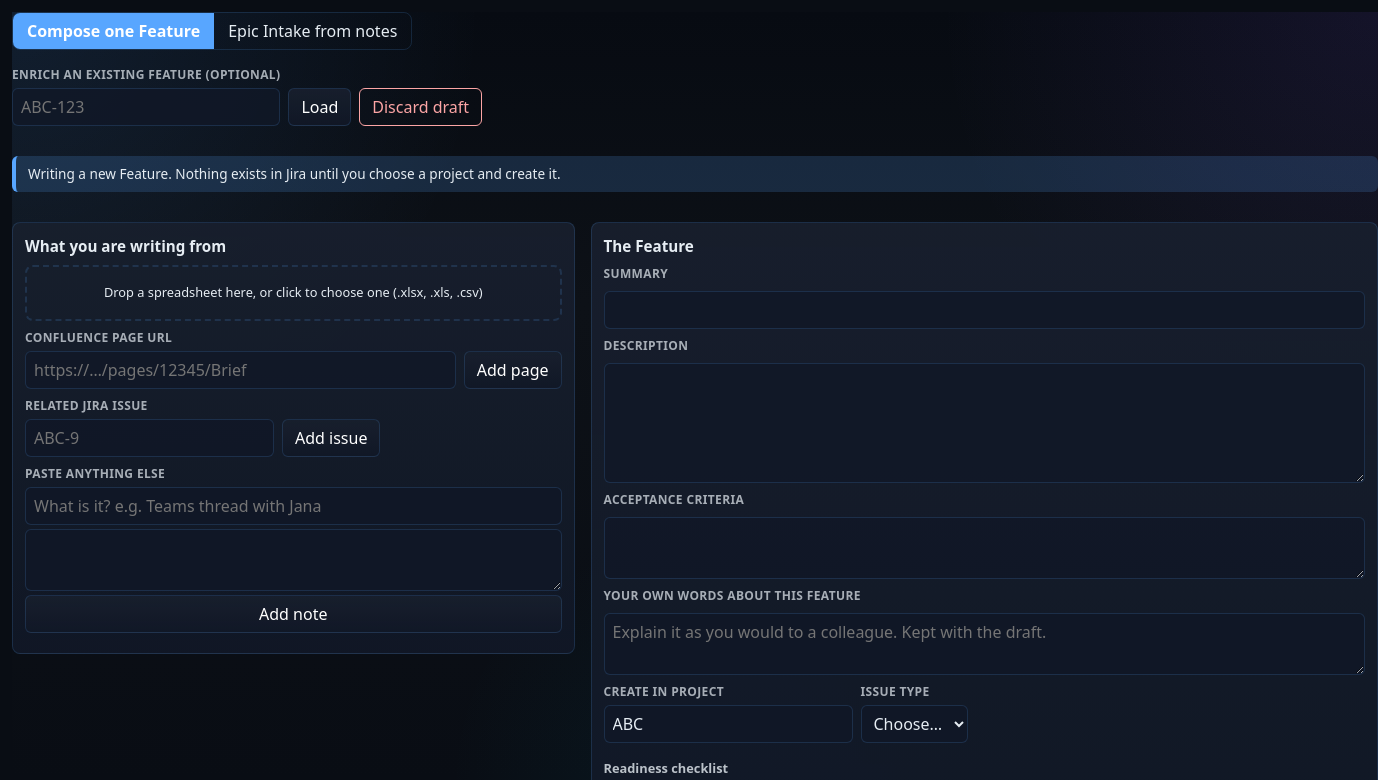
Test: FeatureCompositionTab — all four source types in one place (SC-017) › adds a Confluence page by URL, as readable text
The image size is (1378, 780).
Type "https://wiki/pages/12345/Brief" into the field labelled "Confluence page URL" at (240, 370), box [25,351,456,389]
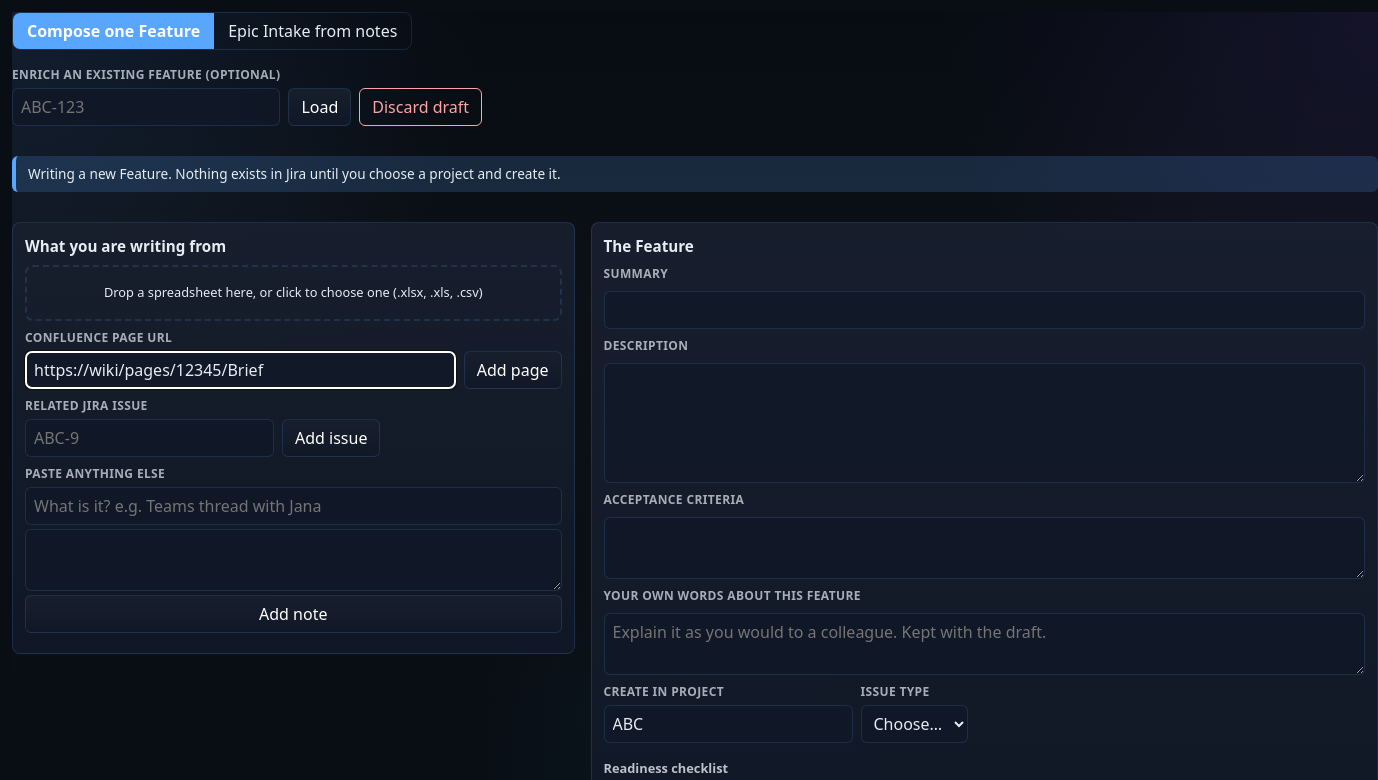
Click the button "Add page" at (513, 370), box [464,351,562,389]
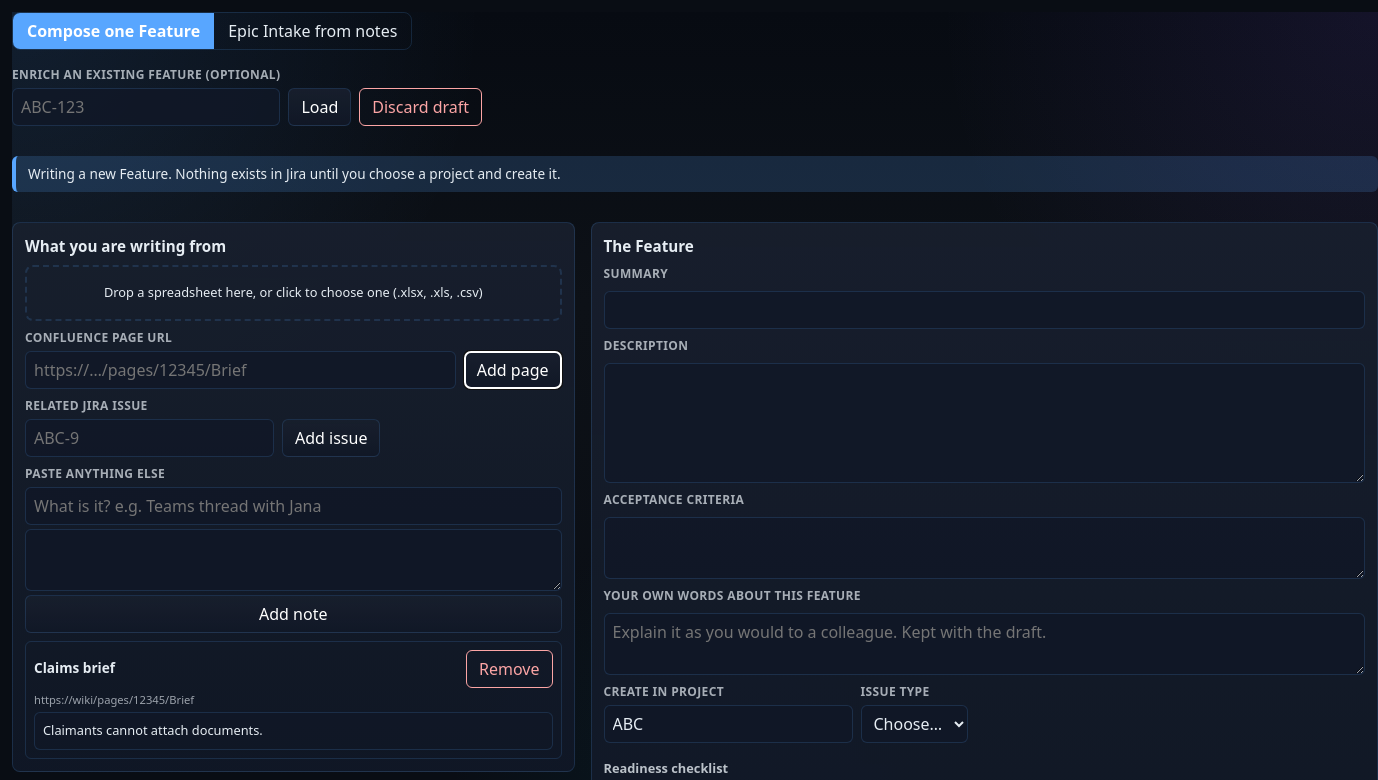
Now the text "Claims brief" is shown, box [34,658,115,679]
Now the text "Claimants cannot attach documents." is shown, box [34,712,552,750]
